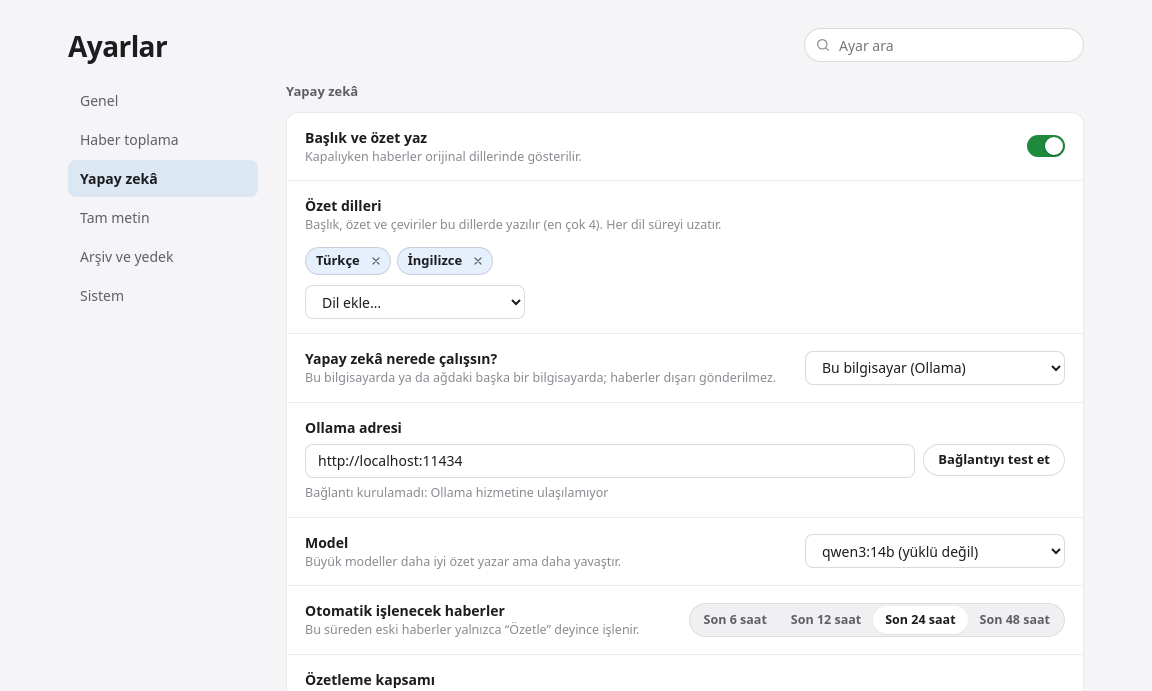
Test: AI languages › adds and removes the languages the AI writes in, keeping at least one
Expected: the list items read "Türkçe", "İngilizce", in this order, [305, 247, 391, 275]; [397, 247, 493, 275]
Click the button named "İngilizce kaldır": (476, 261) [466, 251, 486, 271]
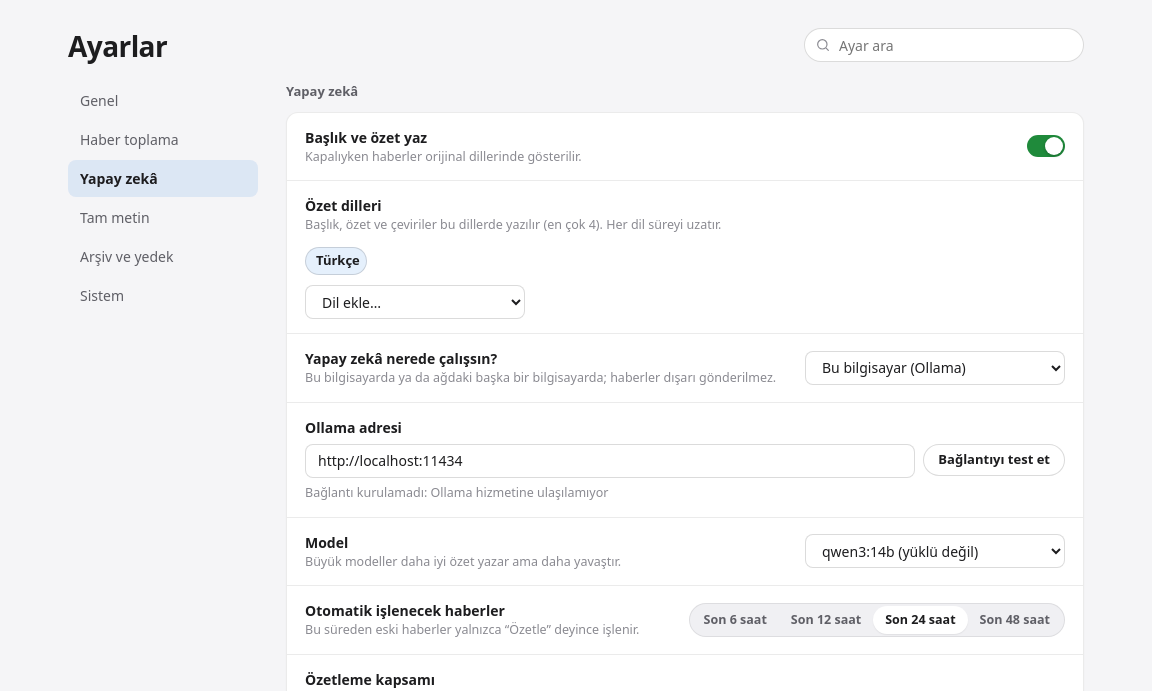
Select "Portekizce" in the dropdown named "Dil ekle…": (415, 302) [305, 285, 525, 319]
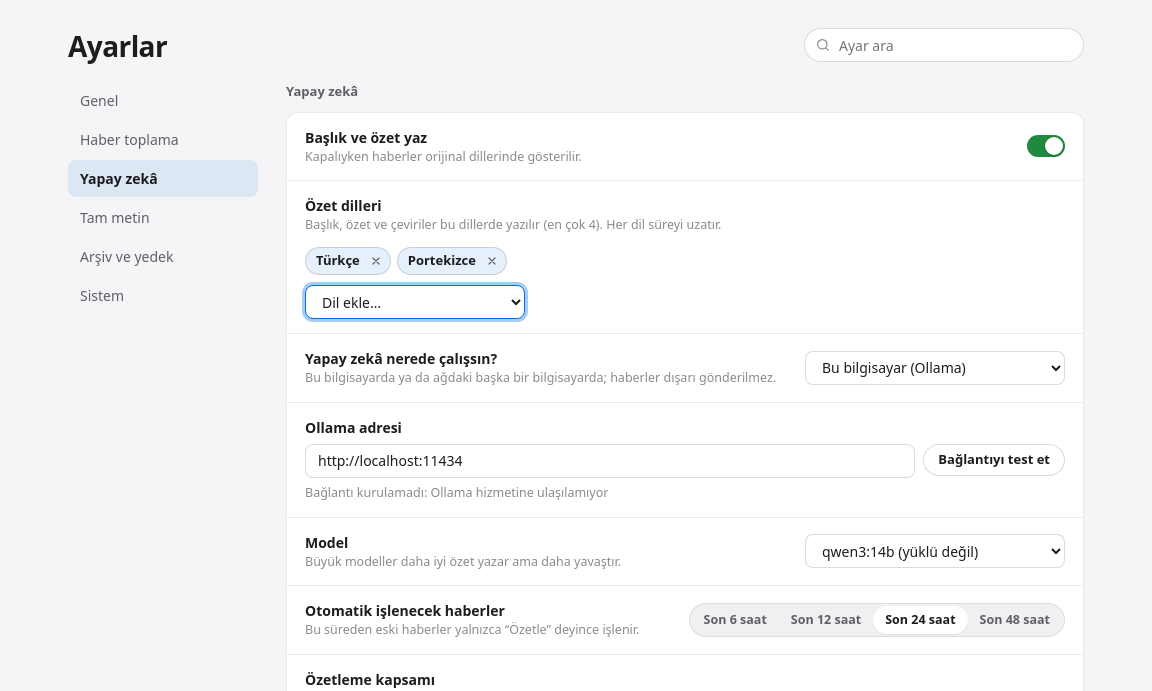
Result: the text "Portekizce" is shown at [408, 251, 476, 271]
